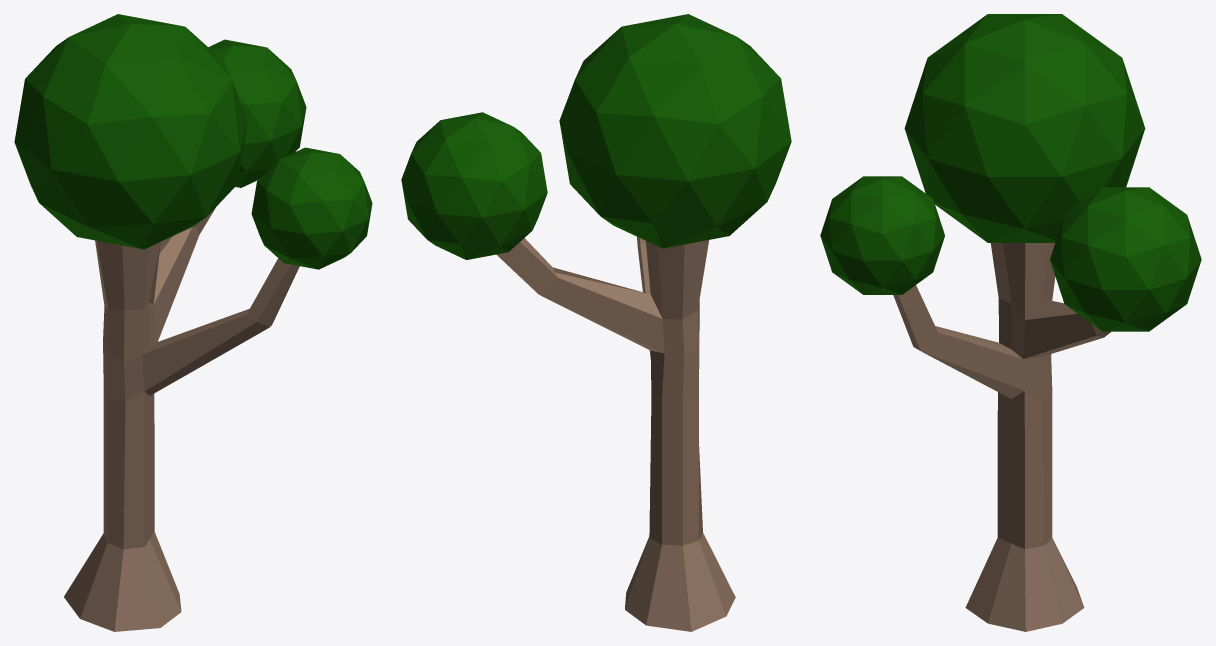
File: Tree.fbx
3 views of the same model, side by side, from view 1: azimuth 30°, elevation 25°; view 2: azimuth 150°, elevation 25°; view 3: azimuth 270°, elevation 25° (orthographic).
Parts seen in each view (by area): view 1: Cylinder; view 2: Cylinder; view 3: Cylinder.
Part boxes in pixels (x1,y1,x2,y2): Cylinder: [14, 14, 372, 631]; Cylinder: [401, 14, 791, 631]; Cylinder: [820, 14, 1201, 631].
Size of the model in its own units: 3.02 by 5.39 by 3.17.
